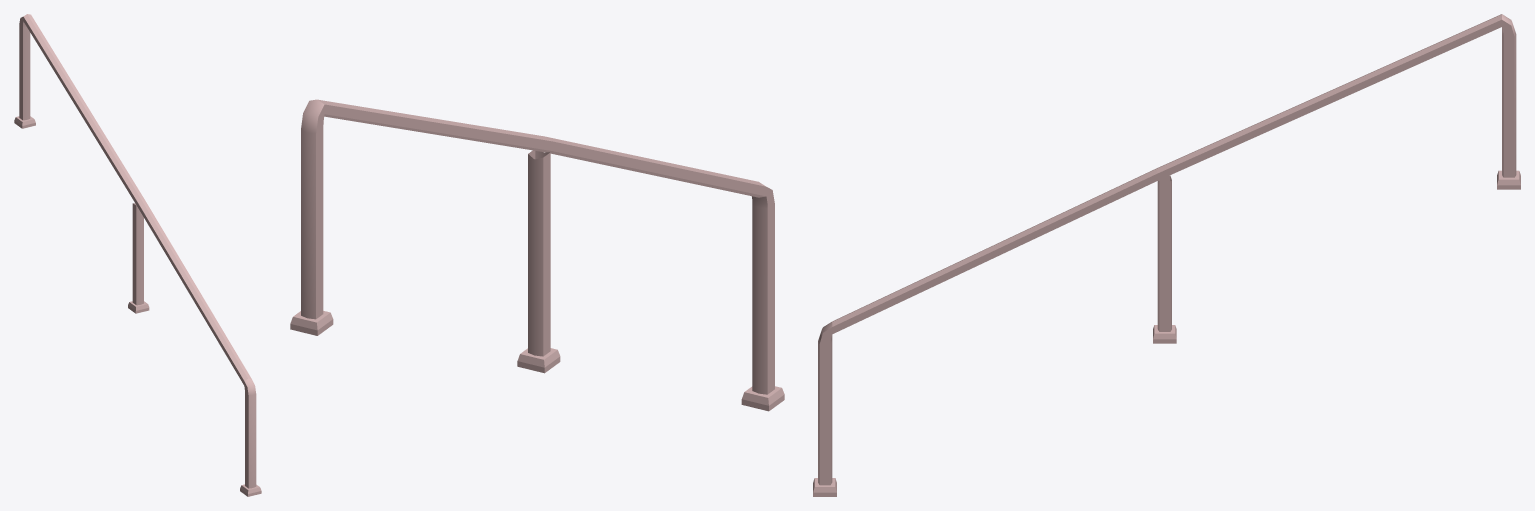
The model's file is Module_Ss_bar_ramp_A1.FBX.
The picture shows the model from 3 angles, left to right: view 1: azimuth 30°, elevation 25°; view 2: azimuth 150°, elevation 25°; view 3: azimuth 270°, elevation 25°; orthographic projection. The views are drawn at different scales.
Visible parts, largest first — view 1: Module_Ss_bar_ramp_A1; view 2: Module_Ss_bar_ramp_A1; view 3: Module_Ss_bar_ramp_A1.
Part boxes in pixels (bbox=[...]): Module_Ss_bar_ramp_A1: bbox=[14, 14, 261, 496]; Module_Ss_bar_ramp_A1: bbox=[290, 99, 784, 411]; Module_Ss_bar_ramp_A1: bbox=[813, 14, 1520, 496].
Bounding box in the file's own units: 2.75 × 60.73 × 81.6.
